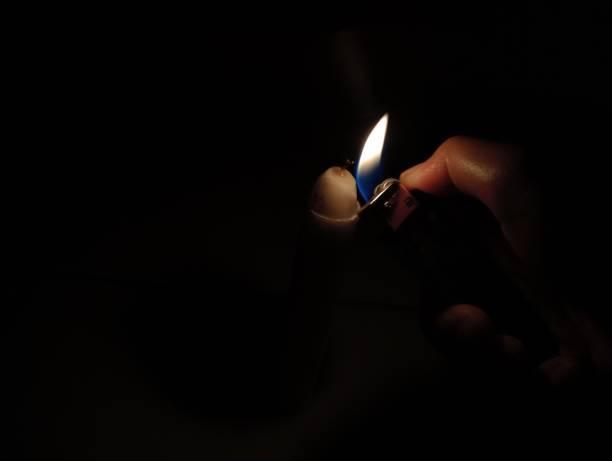Fire: (354, 112, 389, 202)
